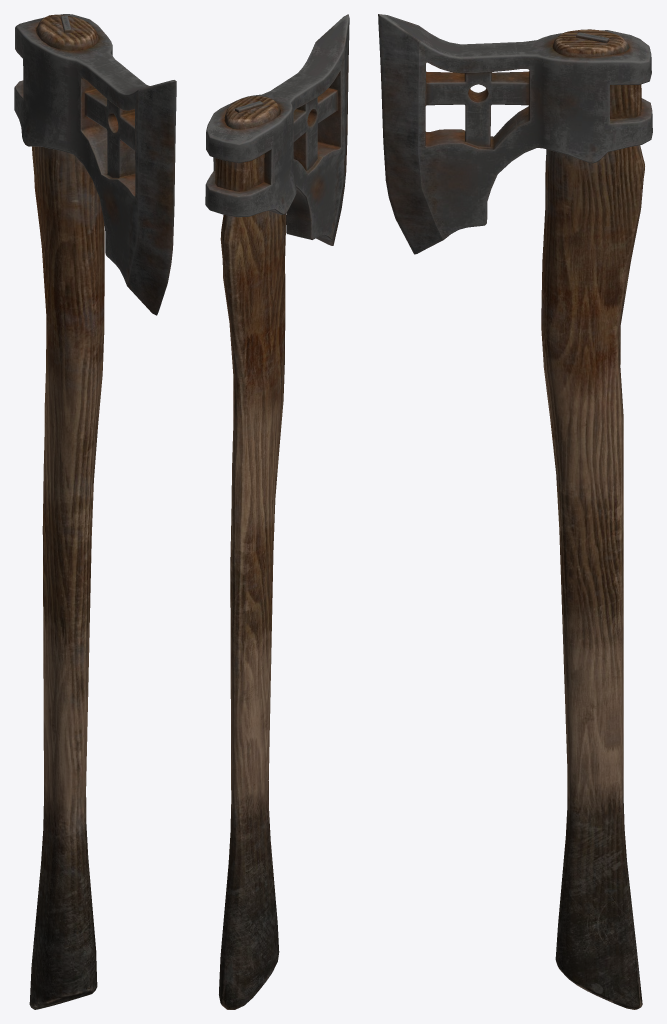
Rendered from wooden_axe_03.gltf.
3 renders of one model, left to right at view 1: azimuth 30°, elevation 25°; view 2: azimuth 150°, elevation 25°; view 3: azimuth 270°, elevation 25°, orthographic. The views are drawn at different scales.
Parts seen in each view (by area): view 1: wooden_axe_03; view 2: wooden_axe_03; view 3: wooden_axe_03.
Boxes of the visible parts, bbox=[...] form: wooden_axe_03: bbox=[14, 14, 176, 1009]; wooden_axe_03: bbox=[205, 14, 349, 1009]; wooden_axe_03: bbox=[378, 14, 652, 1009].
Size of the model in its own units: 0.0505 by 0.6318 by 0.1583.
1 material, 1 textured.
